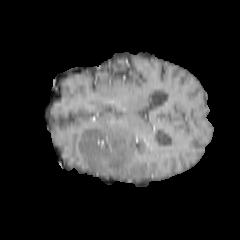glioma: (77, 126, 154, 171)
